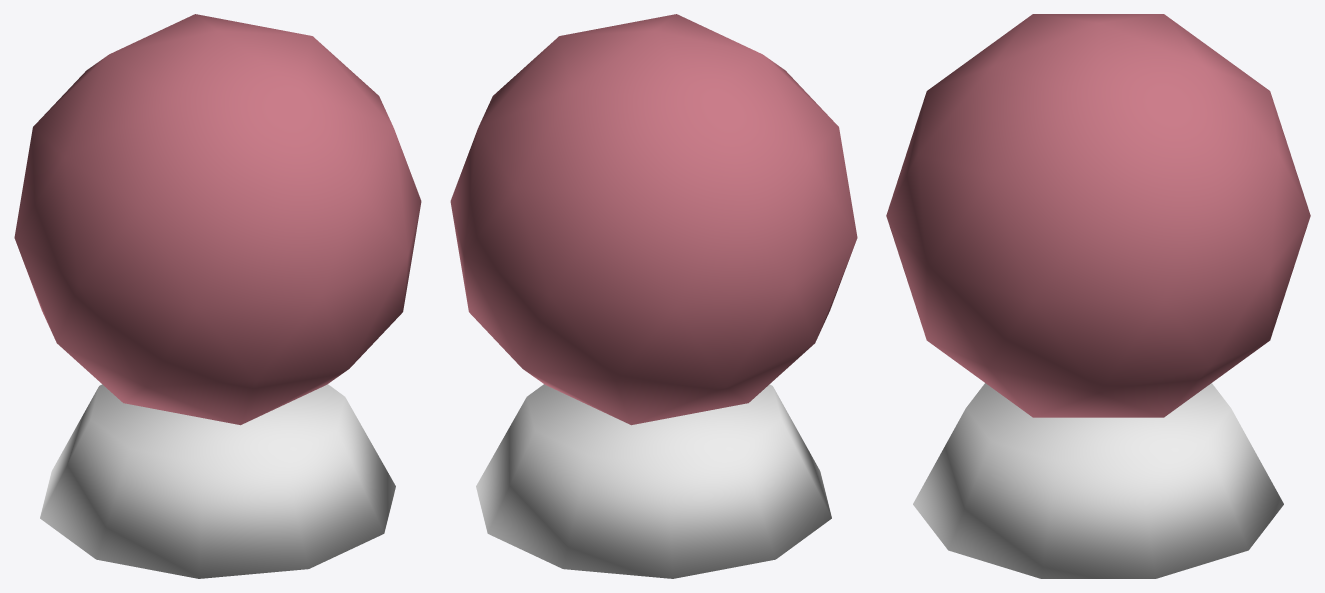
File: brain_of_confusion.glb
The picture shows the model from 3 angles, left to right: view 1: azimuth 30°, elevation 25°; view 2: azimuth 150°, elevation 25°; view 3: azimuth 270°, elevation 25°; orthographic projection. The views are drawn at different scales.
Parts seen in each view (by area): view 1: brain_of_confusion_v0; view 2: brain_of_confusion_v0; view 3: brain_of_confusion_v0.
Part boxes in pixels (left/top/right/bottom): brain_of_confusion_v0: left=14, top=14, right=421, bottom=578; brain_of_confusion_v0: left=450, top=14, right=857, bottom=578; brain_of_confusion_v0: left=886, top=14, right=1310, bottom=578.
Size of the model in its own units: 0.1522 by 0.2 by 0.16.
